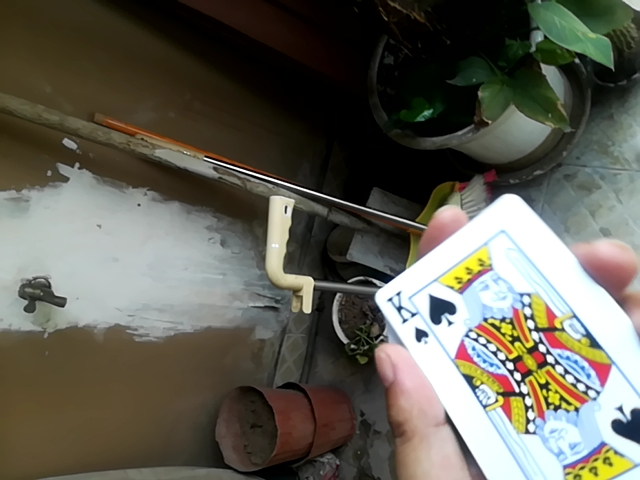ht k: (374, 181, 632, 475)
